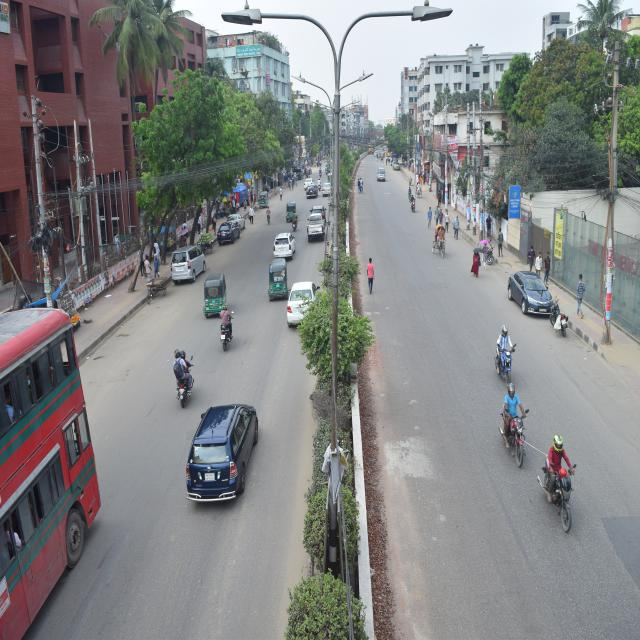bus: (2, 339, 96, 600)
car: (185, 399, 259, 516), (504, 276, 559, 322), (280, 274, 319, 331), (308, 211, 323, 258), (271, 229, 296, 256), (217, 218, 235, 244), (231, 202, 247, 228), (324, 179, 332, 200), (307, 180, 316, 198), (376, 166, 385, 182)
microbus: (173, 246, 204, 282)
motorbike: (543, 431, 574, 511), (492, 319, 518, 387), (504, 395, 525, 462), (173, 349, 194, 399), (552, 295, 572, 336), (217, 305, 234, 349)
